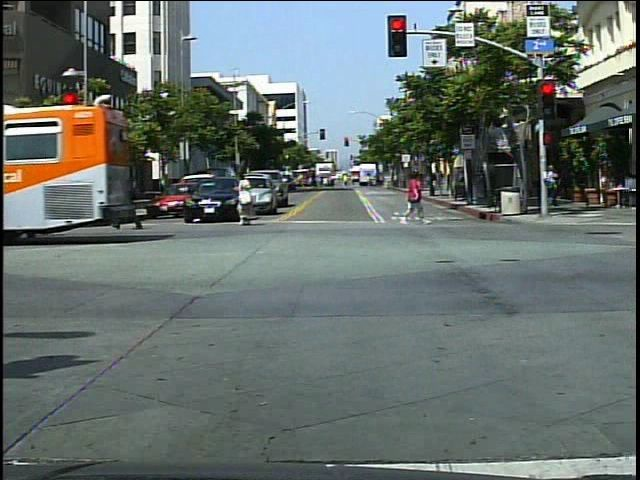person: (232, 166, 264, 230), (400, 166, 430, 230), (118, 170, 147, 236), (546, 161, 568, 212)
